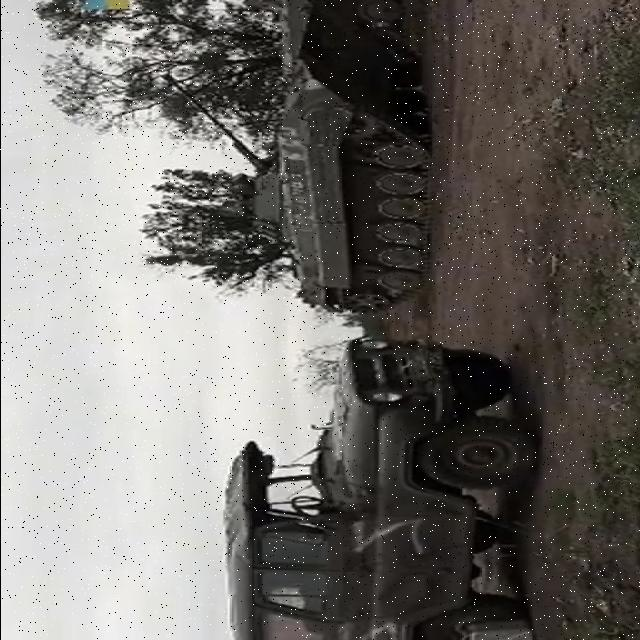APC-IFV: (160, 0, 436, 314)
CAR: (200, 332, 536, 638)
